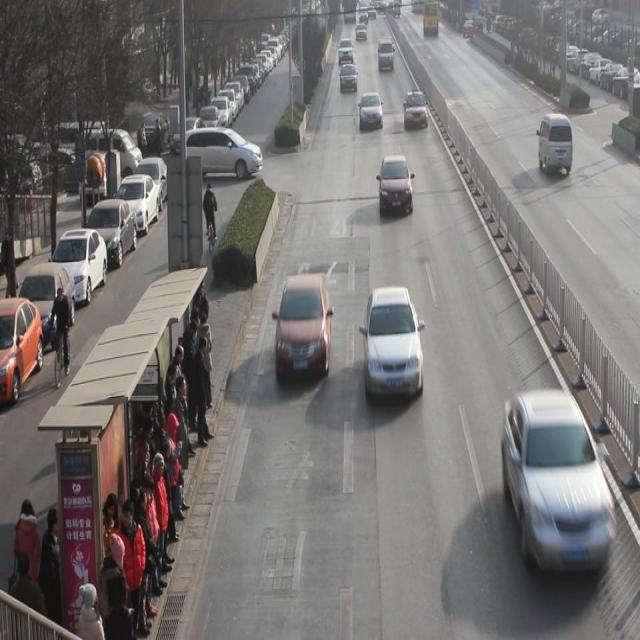car: (505, 392, 616, 574), (366, 286, 426, 401), (275, 277, 332, 383), (380, 157, 414, 218), (405, 91, 429, 131), (360, 94, 384, 132), (341, 62, 358, 93)
truck: (540, 114, 575, 178)
